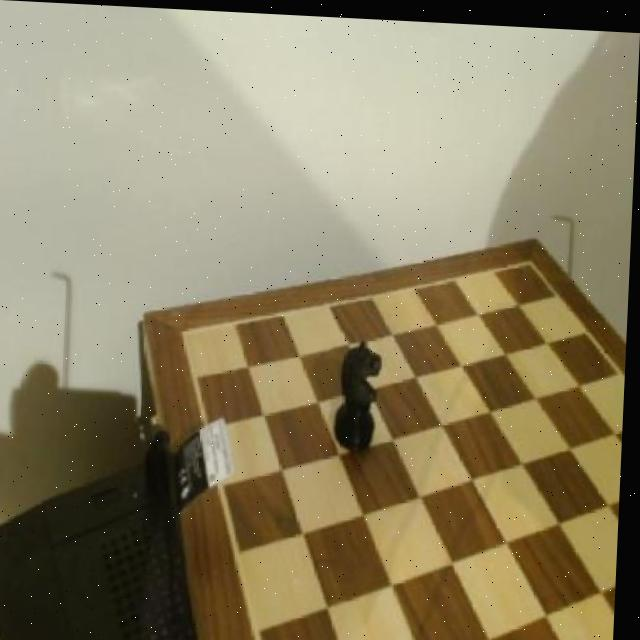black-king: (329, 328, 387, 449)
